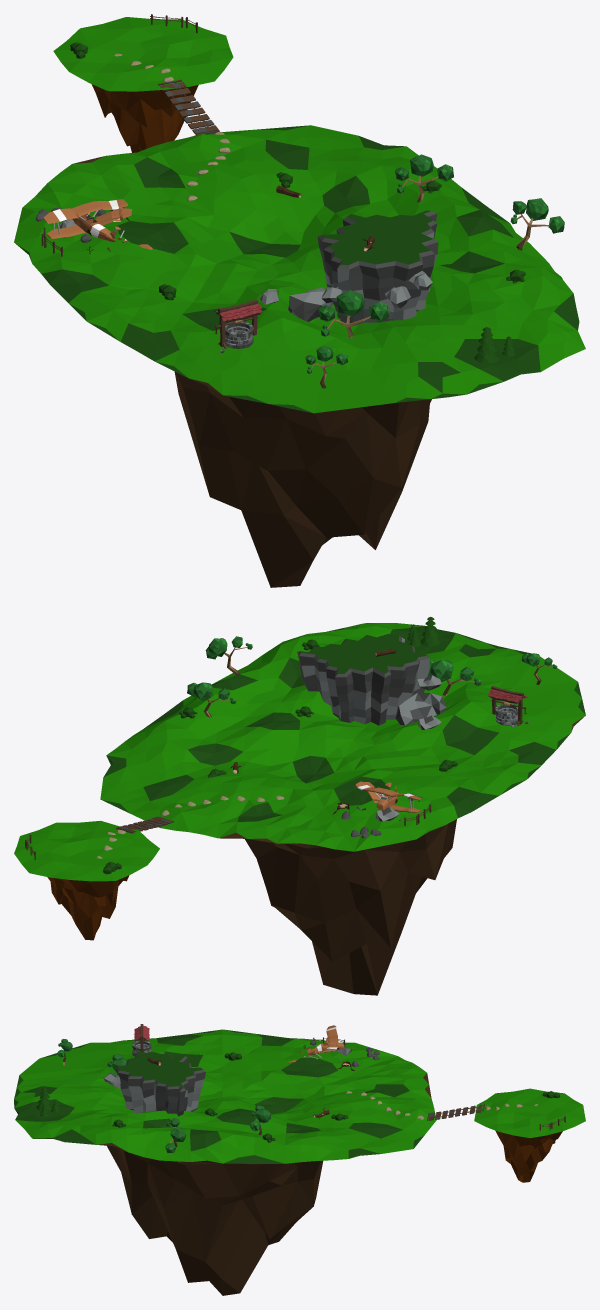
File: TutorialPlattform2.0.fbx
The picture shows the model from 3 angles, top to bottom: view 1: azimuth 30°, elevation 25°; view 2: azimuth 150°, elevation 25°; view 3: azimuth 270°, elevation 25°; orthographic projection. The views are drawn at different scales.
Parts seen in each view (by area): view 1: TutorialPlattform.001; view 2: TutorialPlattform.001; view 3: TutorialPlattform.001.
Boxes of the visible parts, <box> form: TutorialPlattform.001: <box>14,14,585,587</box>; TutorialPlattform.001: <box>14,616,585,995</box>; TutorialPlattform.001: <box>14,1024,585,1295</box>.
Size of the model in its own units: 6089 by 5068 by 10900.
